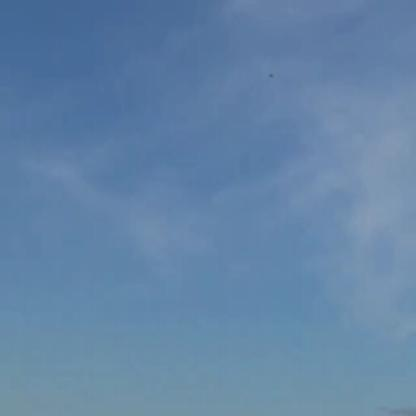CIV_Plane: (268, 72, 279, 80)
